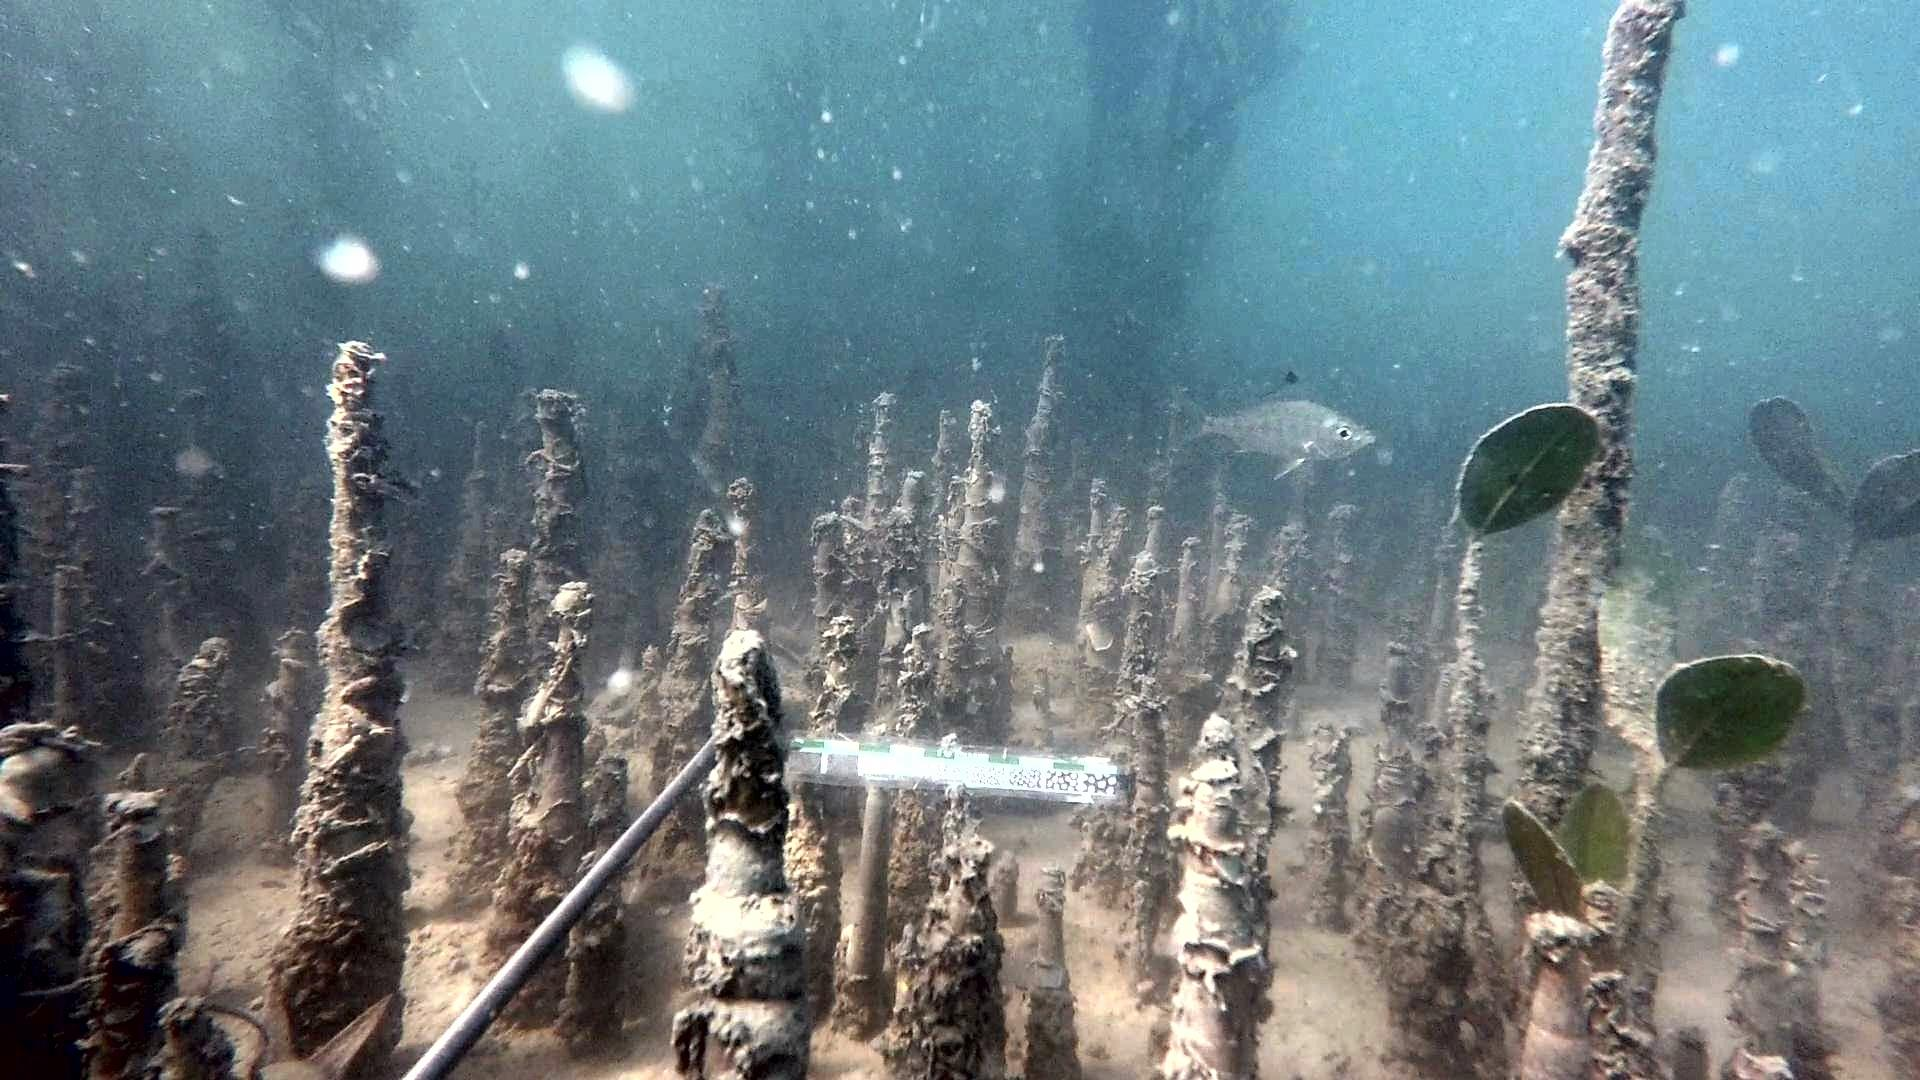gerres: (1159, 370, 1378, 482)
